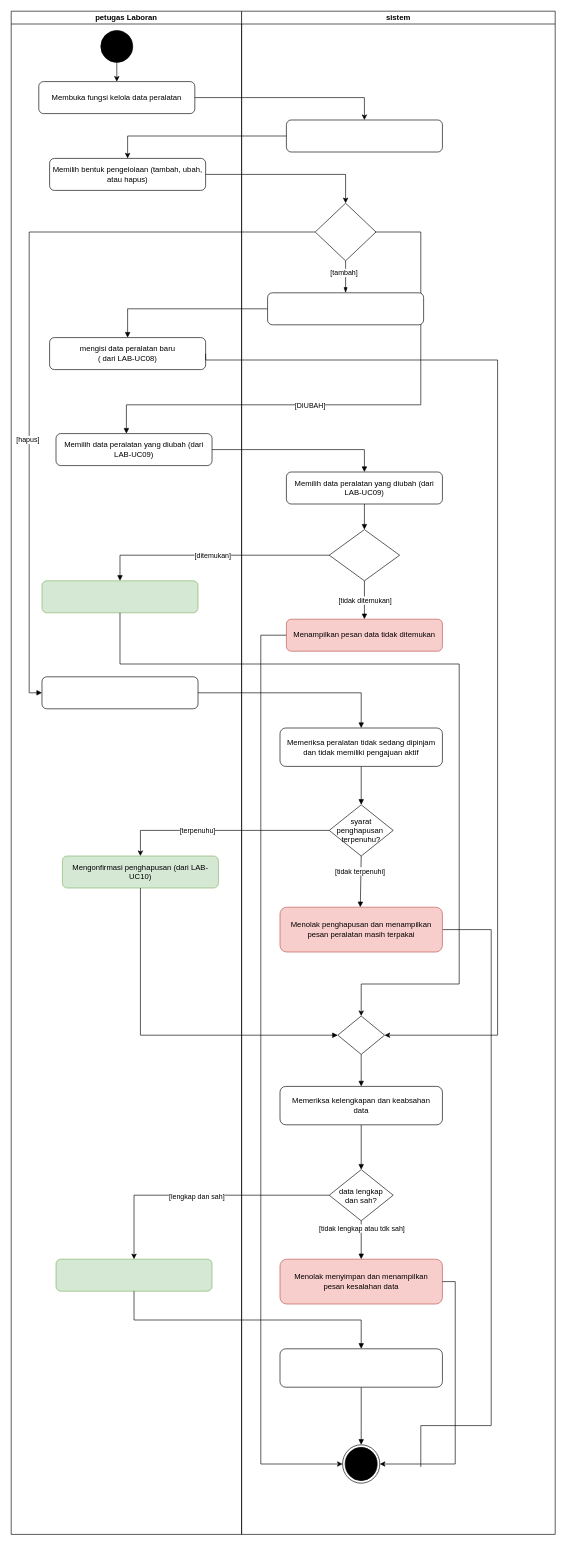
The diagram is 566 pixels wide and 1546 high, and some of its shapes have lost their labels. Here are the shapes that lost their labels. From the top down, the centre of each, then its label:
At point 364,135: "Menampilkan daftar peralatan".
At point 345,232: "bentuk pengelolaan yang dipilih?".
At point 345,308: "menampilkan formulir data peralatan baru".
At point 364,555: "Data peralatan ditemukan?".
At point 119,596: "Mengubah data peralatan (dari LAB-UC09)".
At point 119,692: "Memilih data peralatan yang dihapus (dari LAB-UC10)".
At point 133,1275: "Menyimpan perubahan".
At point 360,1367: "Menyimpan perubahan dan menampilkan konfirmasi".
